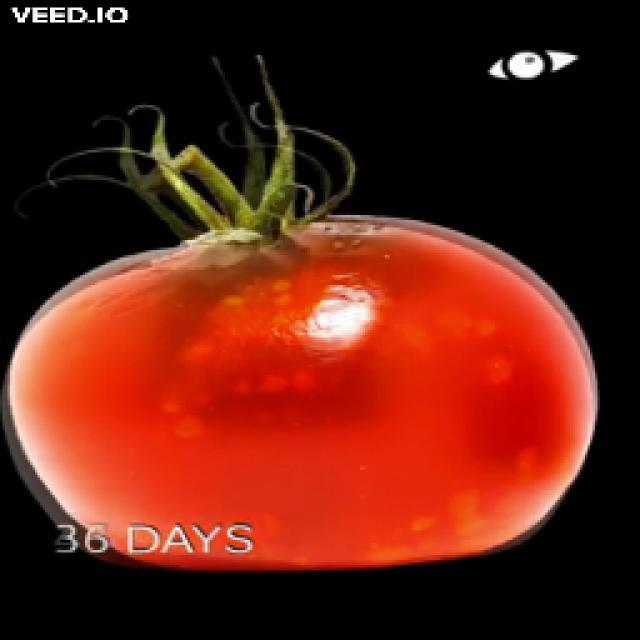tomato: (6, 216, 599, 577)
